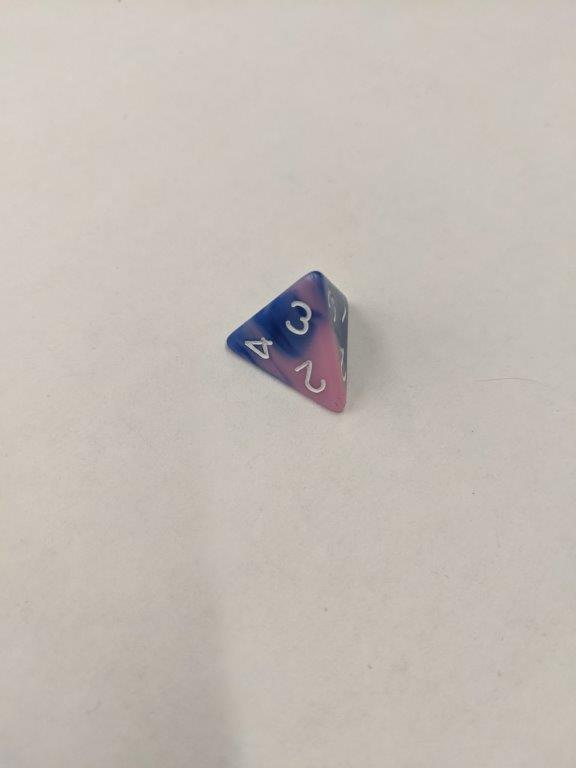d4-3: (222, 258, 353, 418)
